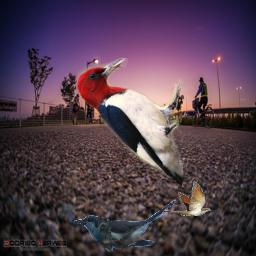Cuckoo: (73, 199, 179, 252), (160, 181, 211, 216)
Woodpecker: (75, 58, 183, 186)
